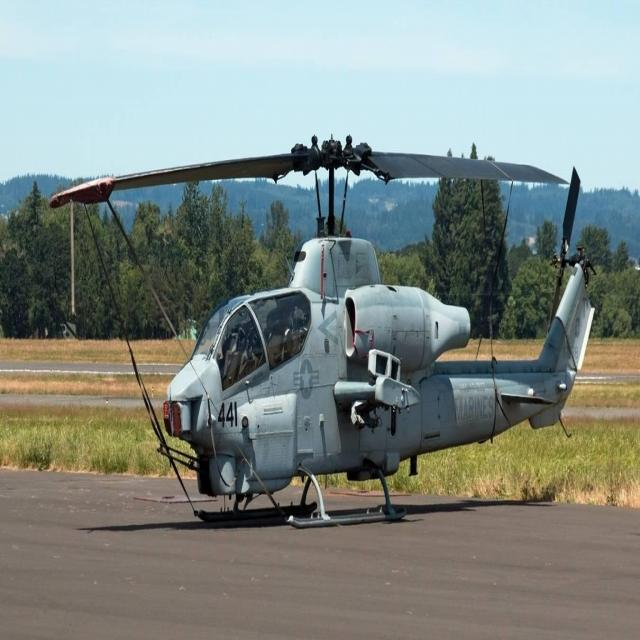MIL_HELO: (59, 108, 638, 540)
